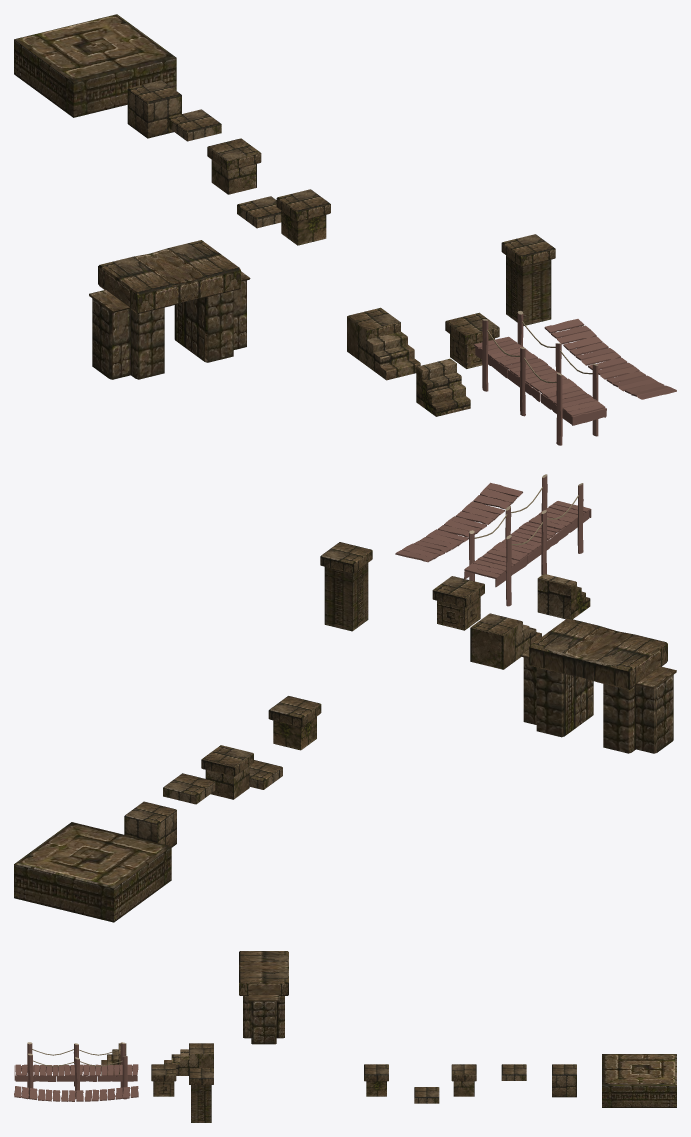
File: IndyAIStyleTiles.glb
The picture shows the model from 3 angles, top to bottom: view 1: azimuth 30°, elevation 25°; view 2: azimuth 150°, elevation 25°; view 3: azimuth 270°, elevation 25°; orthographic projection. The views are drawn at different scales.
Parts seen in each view (by area): view 1: gate01-col, CubeBaseBig-col, bridge2-col, colomn-col, stairs-col, bridge1-col, CubeBase-col, stairs1-col, Cube04-col, Cube02-col, Cube03-col, groundUP-col (+1 smaller); view 2: gate01-col, CubeBaseBig-col, bridge2-col, colomn-col, bridge1-col, stairs-col, Cube04-col, Cube03-col, Cube02-col, stairs1-col, CubeBase-col, groundUP-col (+1 smaller); view 3: gate01-col, CubeBaseBig-col, bridge2-col, bridge1-col, colomn-col, stairs-col, CubeBase-col, Cube02-col, Cube03-col, Cube04-col, ground-col, groundUP-col (+1 smaller).
Part boxes in pixels (x1,y1,x2,y2): gate01-col: (89,240,250,379); CubeBaseBig-col: (14,14,176,117); bridge2-col: (474,311,606,445); colomn-col: (501,234,555,325); stairs-col: (347,307,420,380); bridge1-col: (544,319,676,399); CubeBase-col: (127,80,181,138); stairs1-col: (416,358,470,416); Cube04-col: (276,189,330,245); Cube02-col: (207,138,261,194); Cube03-col: (445,312,499,368); groundUP-col: (167,109,221,141); gate01-col: (520,618,676,753); CubeBaseBig-col: (14,822,171,922); bridge2-col: (464,474,591,606); colomn-col: (320,542,372,631); bridge1-col: (395,482,522,562); stairs-col: (470,613,541,669); Cube04-col: (268,696,321,750); Cube03-col: (432,576,484,630); Cube02-col: (201,745,253,799); stairs1-col: (537,573,590,619); CubeBase-col: (124,801,176,847); groundUP-col: (163,773,215,804); gate01-col: (239,951,288,1044); CubeBaseBig-col: (602,1054,676,1107); bridge2-col: (14,1042,138,1099); bridge1-col: (14,1086,138,1101); colomn-col: (189,1068,213,1122); stairs-col: (164,1043,213,1075); CubeBase-col: (552,1064,576,1097); Cube02-col: (451,1064,476,1096); Cube03-col: (151,1064,176,1096); Cube04-col: (364,1064,388,1096); ground-col: (414,1087,439,1103); groundUP-col: (501,1064,526,1080).
Bounding box in the file's own units: 23 × 5.54 × 52.97.
Materials: 4 (1 with a texture image).
